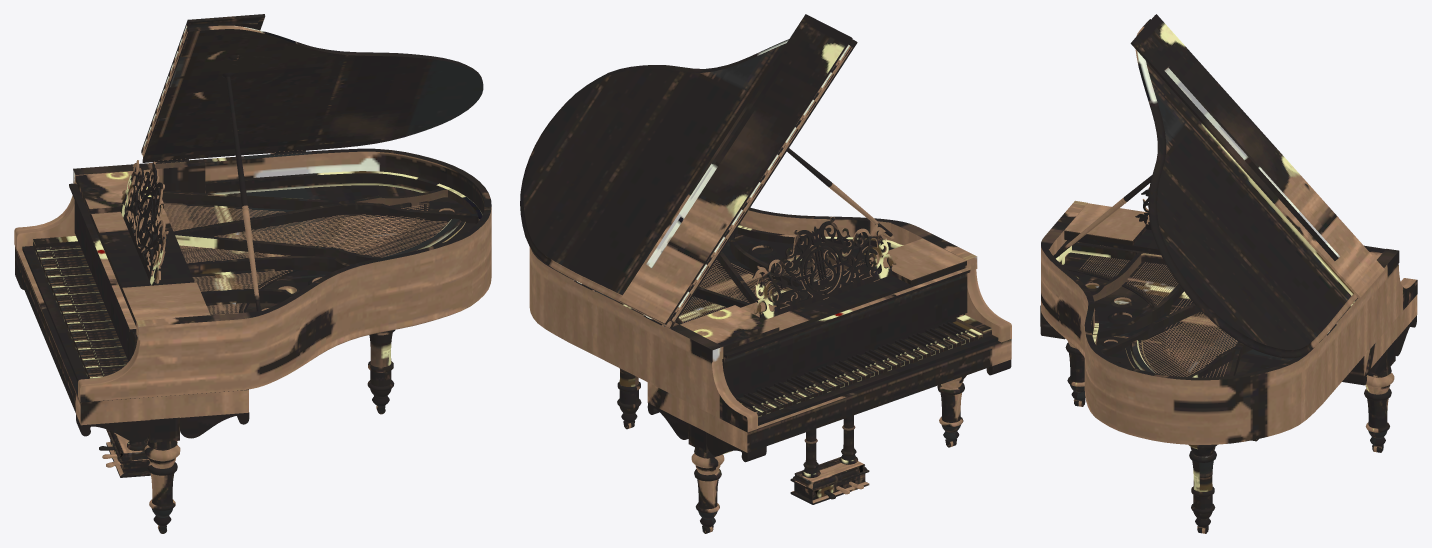
The model's file is indigo_park_lloyds_piano.glb.
The picture shows the model from 3 angles, left to right: view 1: azimuth 30°, elevation 25°; view 2: azimuth 150°, elevation 25°; view 3: azimuth 270°, elevation 25°; orthographic projection. The views are drawn at different scales.
Visible parts, largest first — view 1: egg.001; view 2: egg.001; view 3: egg.001.
Boxes of the visible parts, x1,y1,x2,y2 form: egg.001: (14, 14, 491, 533); egg.001: (520, 14, 1011, 533); egg.001: (1040, 14, 1417, 533).
Bounding box in the file's own units: 3.47 × 3.33 × 2.7.
1 material, 1 textured.
